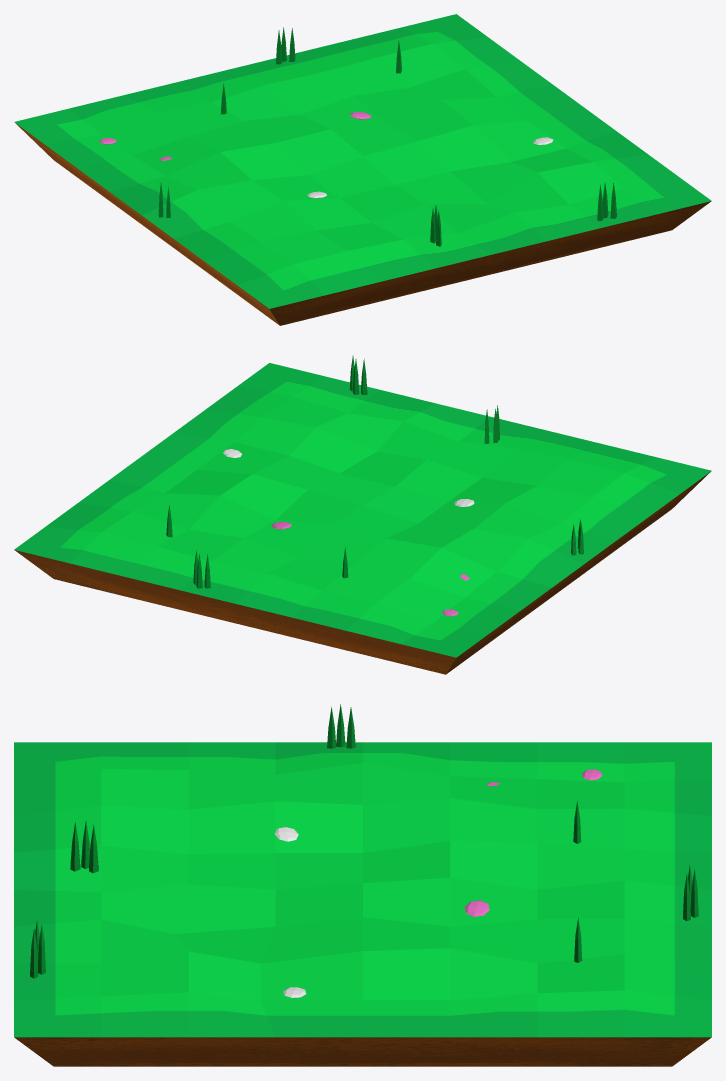
Rendered from grassflowerpinkwhite.fbx.
3 views of the same model, one above another, from view 1: azimuth 30°, elevation 25°; view 2: azimuth 150°, elevation 25°; view 3: azimuth 270°, elevation 25° (orthographic). The views are drawn at different scales.
Parts seen in each view (by area): view 1: pCube1; view 2: pCube1; view 3: pCube1.
Boxes of the visible parts, box(x1,y1,x2,y2) form: pCube1: box(14, 14, 711, 325); pCube1: box(14, 363, 711, 674); pCube1: box(14, 742, 711, 1066).
Size of the model in its own units: 97.93 by 14.79 by 97.93.
Materials: 5 (2 with a texture image).
